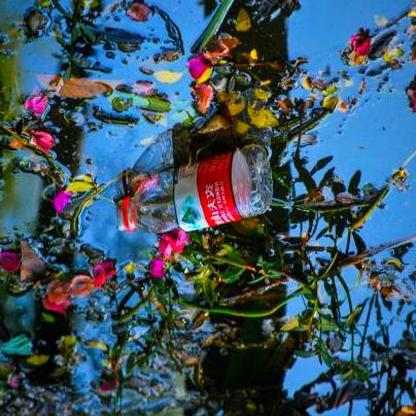plastic bottle: (116, 143, 273, 234)
